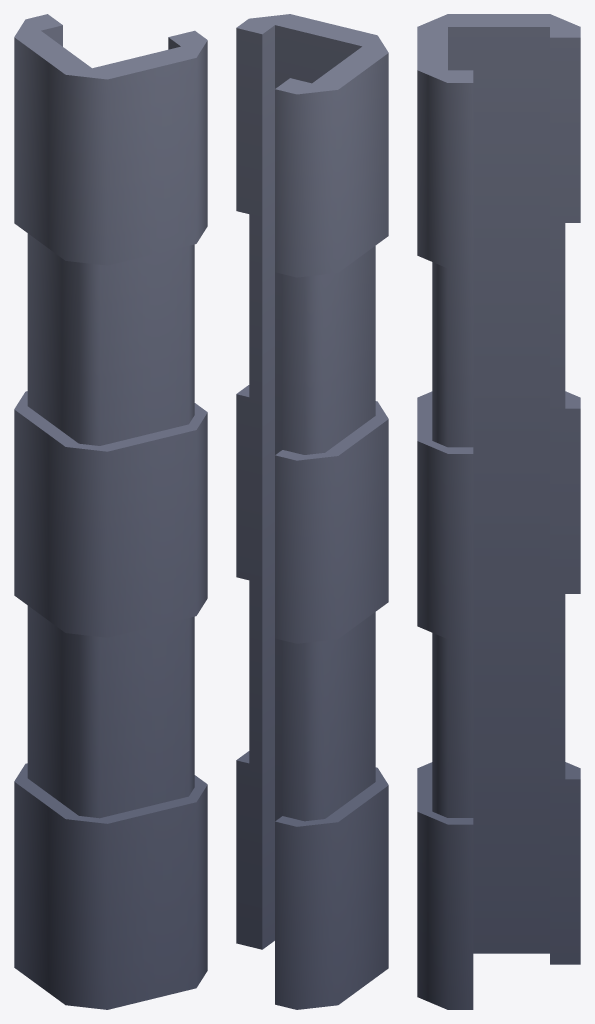
File: wall-corner-detail.glb
3 renders of one model, left to right at view 1: azimuth 30°, elevation 25°; view 2: azimuth 150°, elevation 25°; view 3: azimuth 270°, elevation 25°, orthographic.
Parts seen in each view (by area): view 1: wall-corner-detail; view 2: wall-corner-detail; view 3: wall-corner-detail.
Boxes of the visible parts, x1,y1,x2,y2 form: wall-corner-detail: (14, 14, 207, 1009); wall-corner-detail: (236, 14, 388, 1009); wall-corner-detail: (417, 14, 580, 1009).
Bounding box in the file's own units: 0.16 × 1 × 0.16.
Materials: 1 (1 with a texture image).
